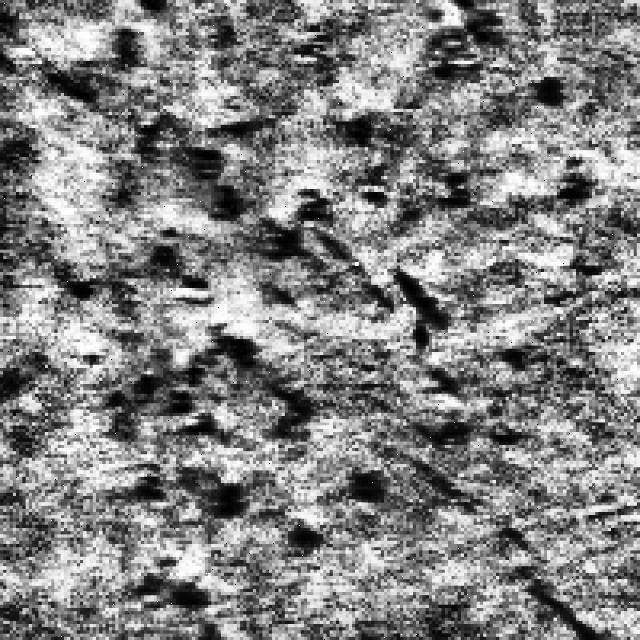Crazing: (102, 7, 500, 614), (406, 0, 541, 141)
